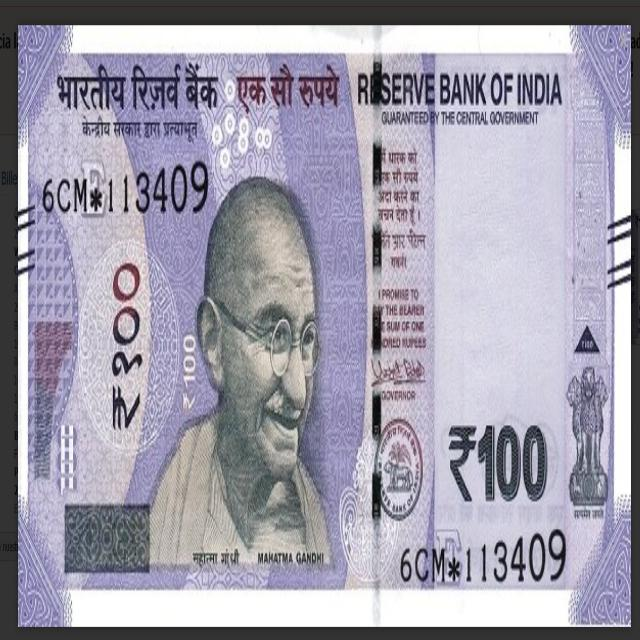100IndianRupees: (17, 26, 630, 625), (103, 35, 564, 599), (231, 21, 631, 628), (16, 25, 388, 626)
